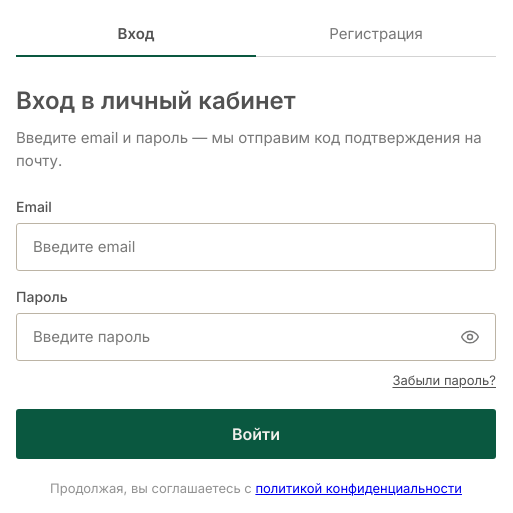
Scenario: AccountAuth › shows forgot password entry on login form
Click the button "Забыли пароль?". click: (444, 380)
box: [392,371,496,389]
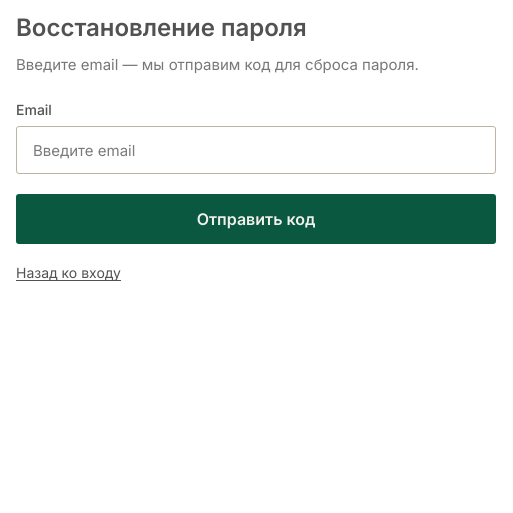
Check: the heading "Восстановление пароля" is shown, box [16,13,307,42]
Check: the button "Отправить код" is shown, box [16,194,496,244]
